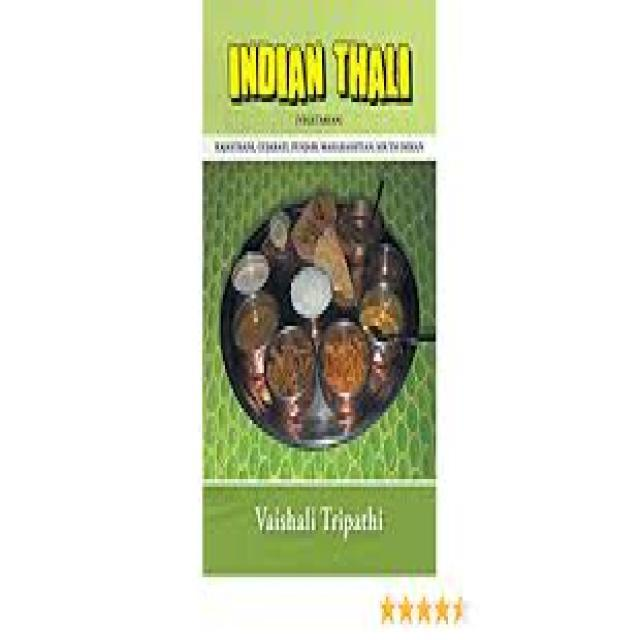sambar-rasam: (226, 289, 284, 360)
sweet: (228, 290, 279, 358)
